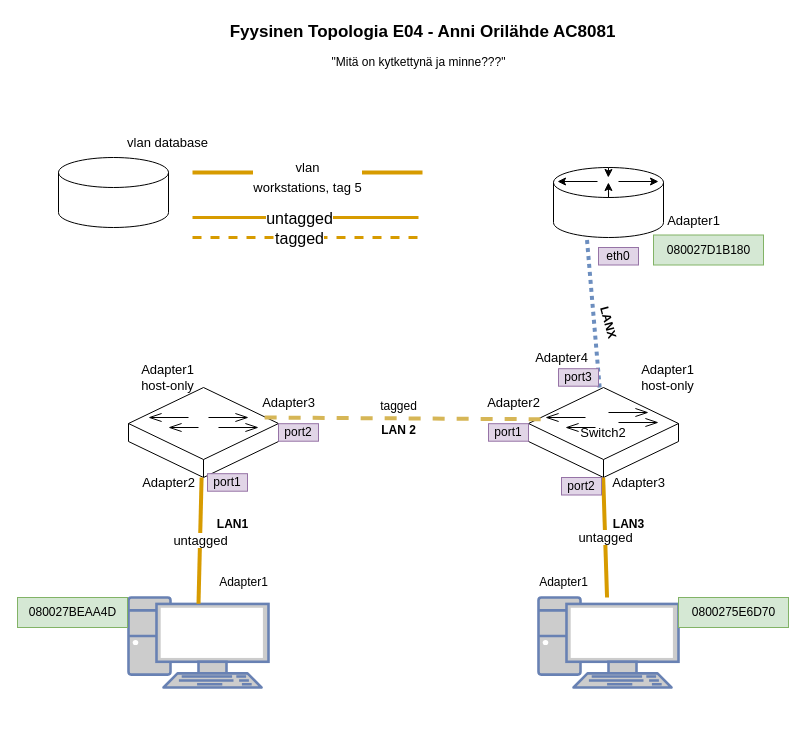
This 806x731 diagram has some shape labels left out. The shapes that lost their labels are listed below. From the top down, each one's centre as x and y in pixels, then its label:
At (x=608, y=202): "LAN_Vyos".
At (x=203, y=432): "Switch".
At (x=198, y=642): "Lubuntu-tietoverkot".
At (x=608, y=642): "Lubuntu-tietoverkot2".
